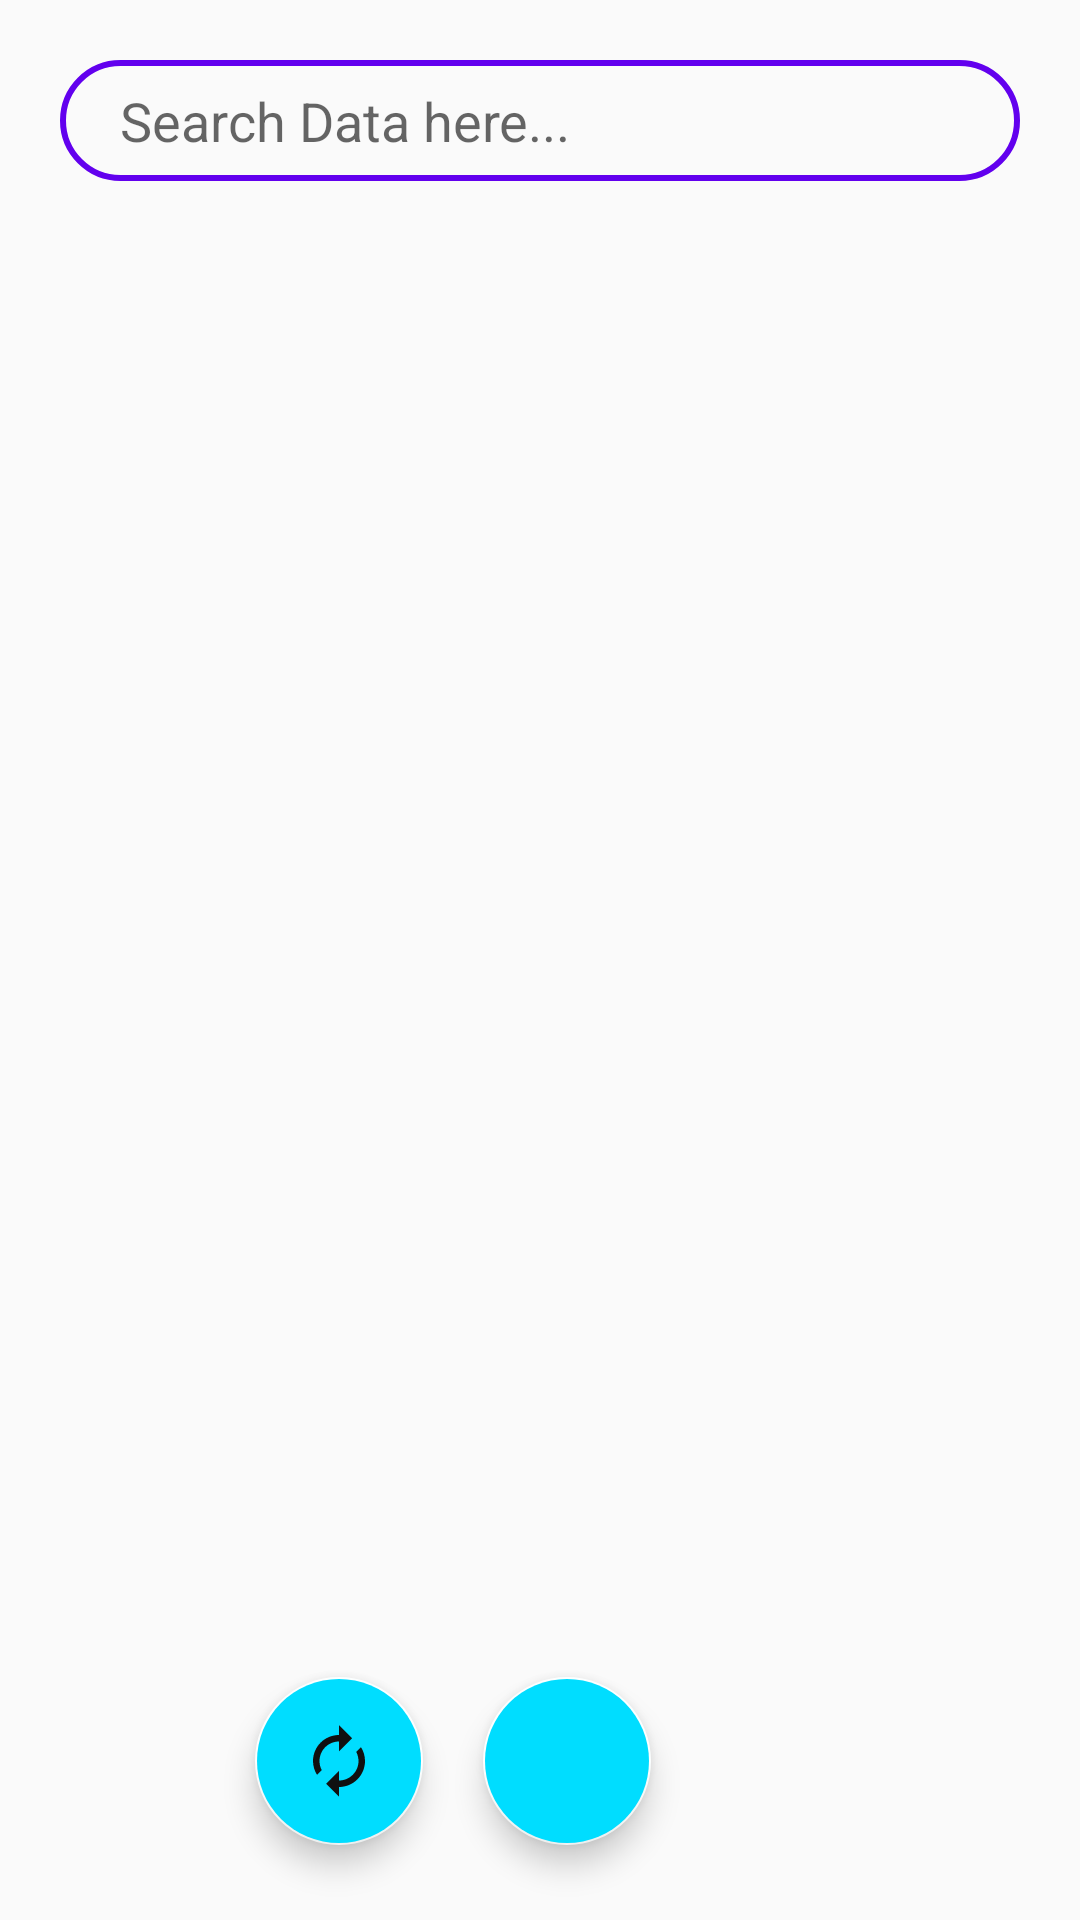

Point at icon controls on the screen. Image size 1080*1920, points as [x,y].
renfresh: [339,1761]
